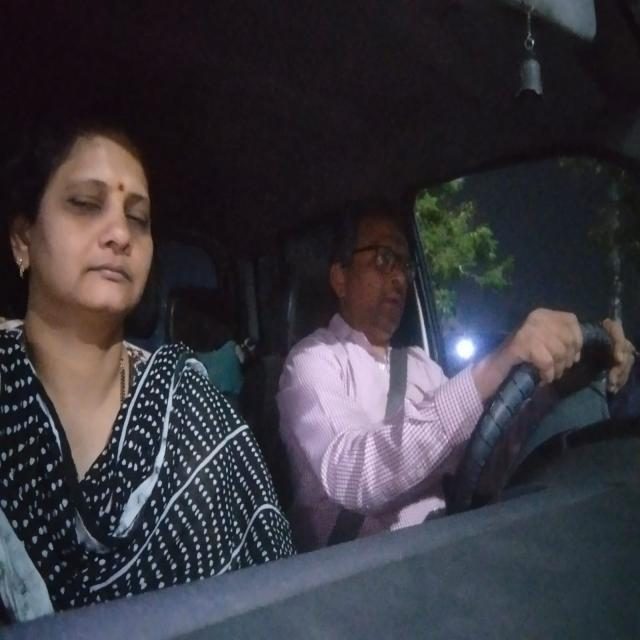person: (8, 108, 164, 364), (317, 176, 436, 366)
